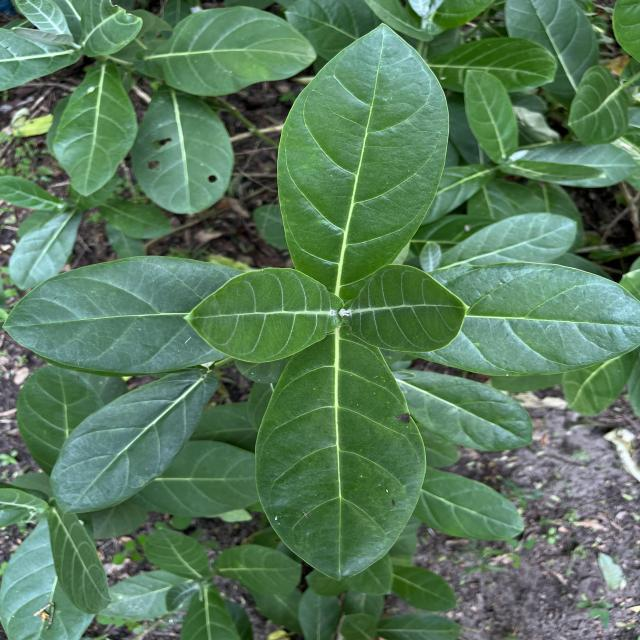Calotropis gigantea: (273, 19, 454, 282), (253, 337, 429, 586), (2, 253, 233, 376), (46, 370, 222, 519), (443, 258, 640, 379), (144, 6, 322, 99), (185, 263, 341, 365), (132, 90, 237, 218), (392, 368, 536, 454), (54, 58, 140, 198), (348, 262, 470, 356), (428, 466, 526, 544), (446, 210, 580, 264), (462, 65, 522, 159), (569, 65, 629, 147)
